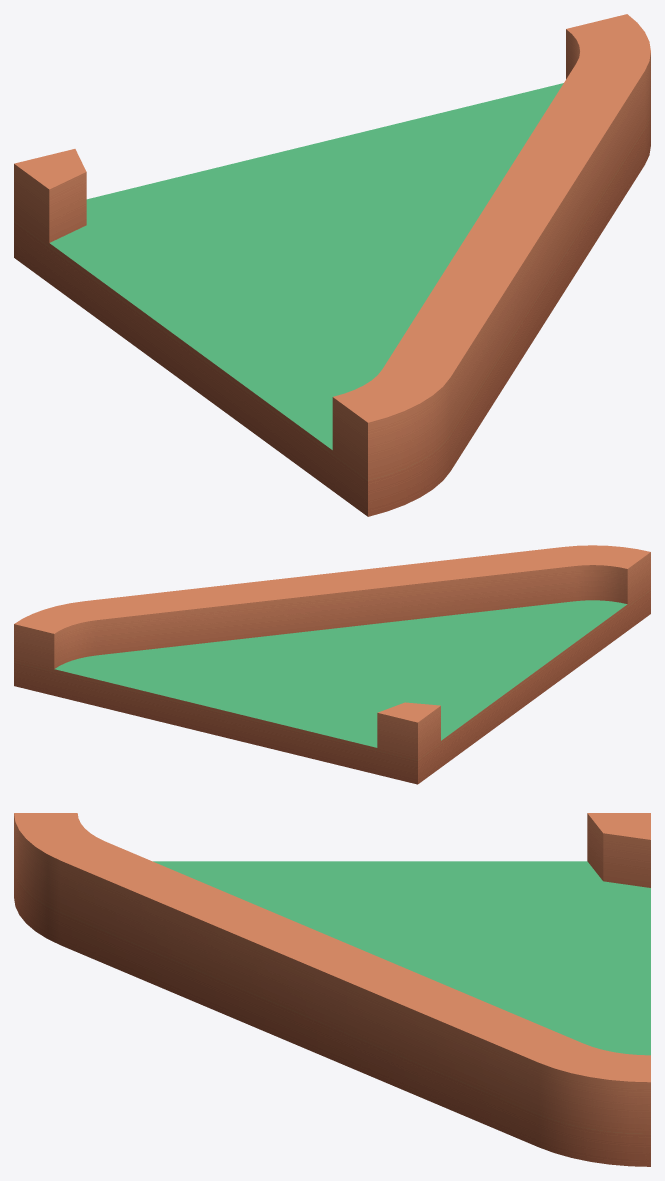
The model's file is skew-corner.glb.
The picture shows the model from 3 angles, top to bottom: view 1: azimuth 30°, elevation 25°; view 2: azimuth 150°, elevation 25°; view 3: azimuth 270°, elevation 25°; orthographic projection. The views are drawn at different scales.
Parts seen in each view (by area): view 1: skew-corner; view 2: skew-corner; view 3: skew-corner.
Part boxes in pixels (x1,y1,x2,y2): skew-corner: [14, 14, 650, 516]; skew-corner: [14, 545, 650, 784]; skew-corner: [14, 813, 650, 1166].
Size of the model in its own units: 0.9999 by 0.1467 by 0.9999.
Materials: 1 (1 with a texture image).
